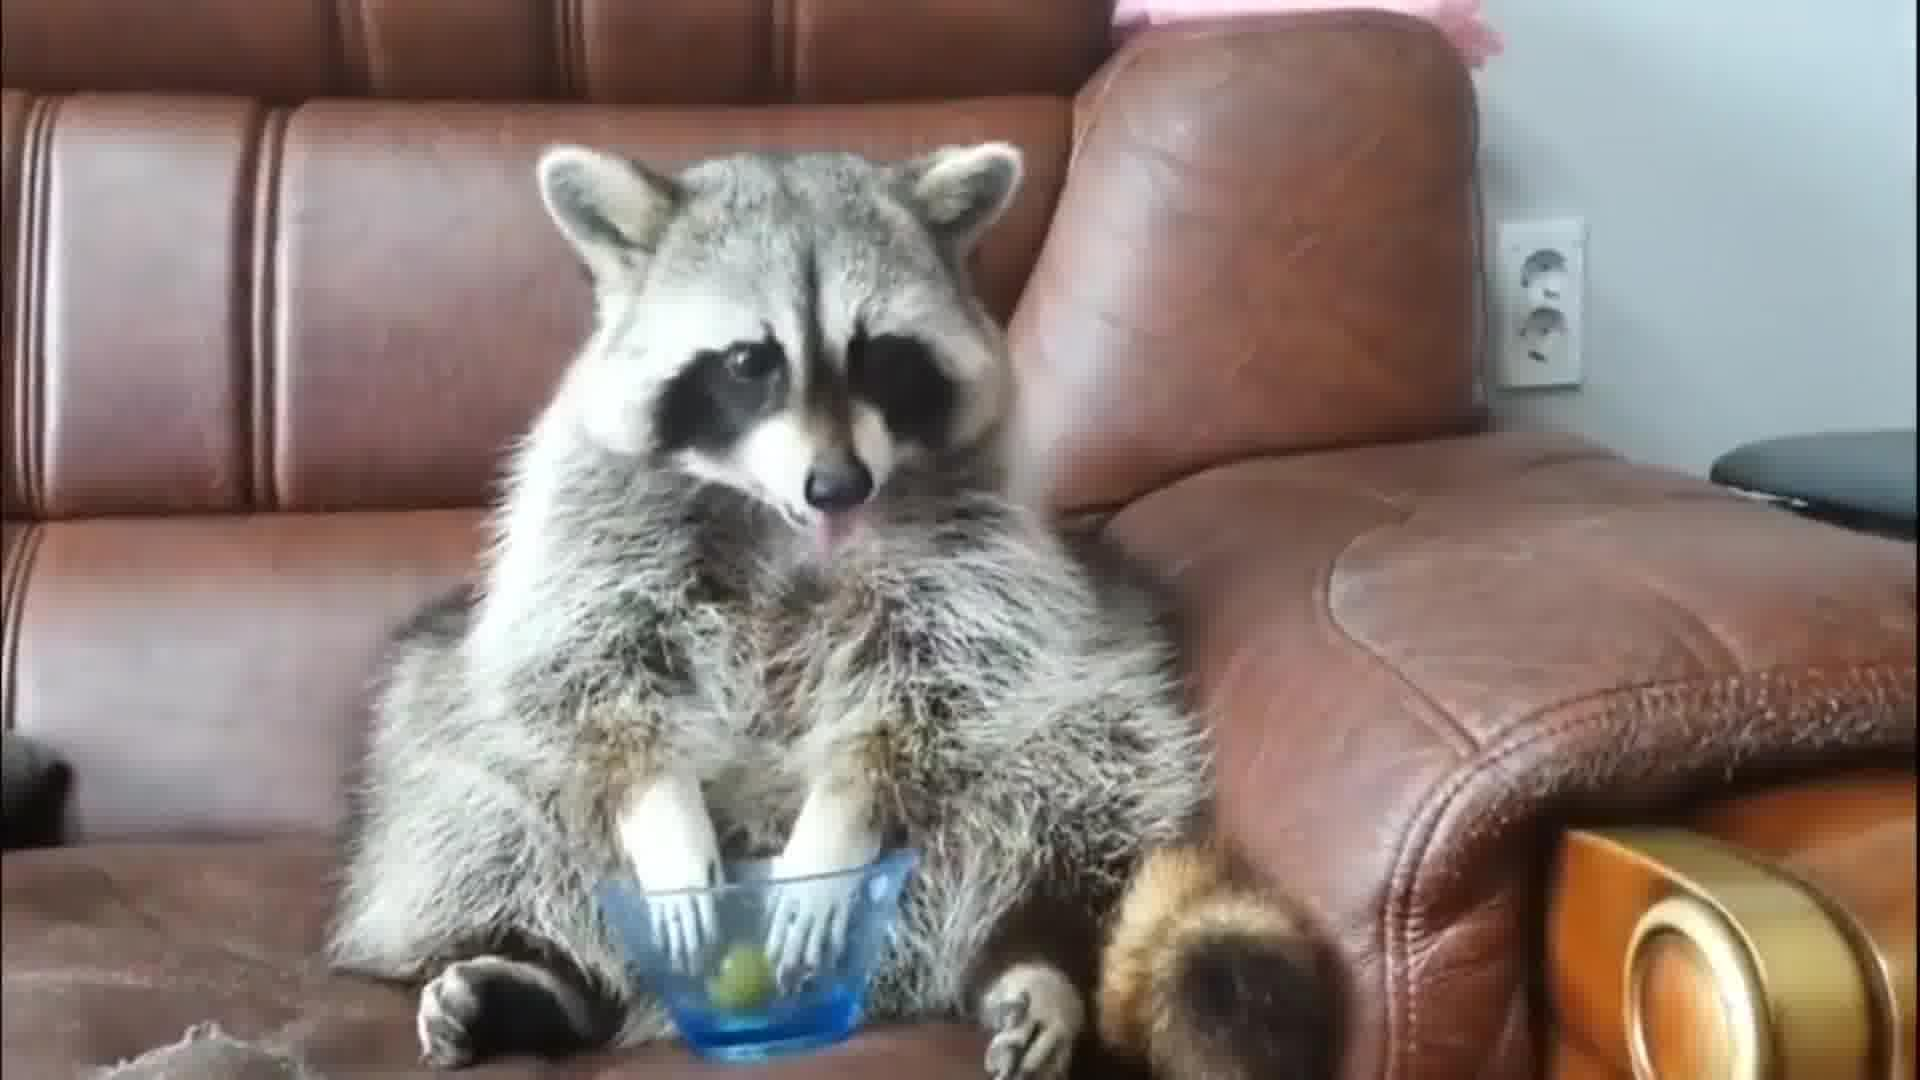raccoon: (322, 138, 1348, 1080)
